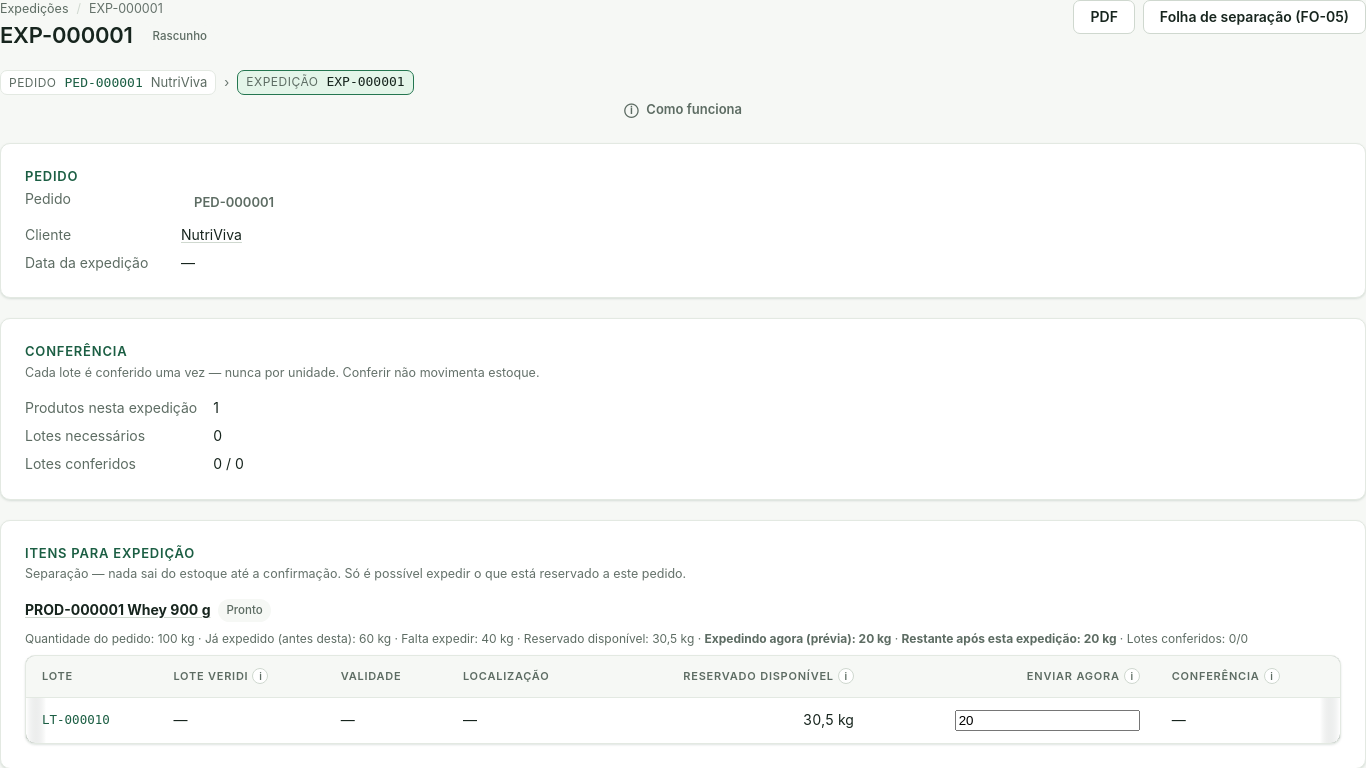
it: Expedição — Salvar separação responde › editar de novo — quantidade ou notas — tira a frase antiga
expect the heading "EXP-000001" is shown: met, box [0,22,133,50]
Replace the text in the field named "Quantidade do lote LT-000010" with "22" at (1047, 720), box [955,710,1140,731]
(page scrolled)
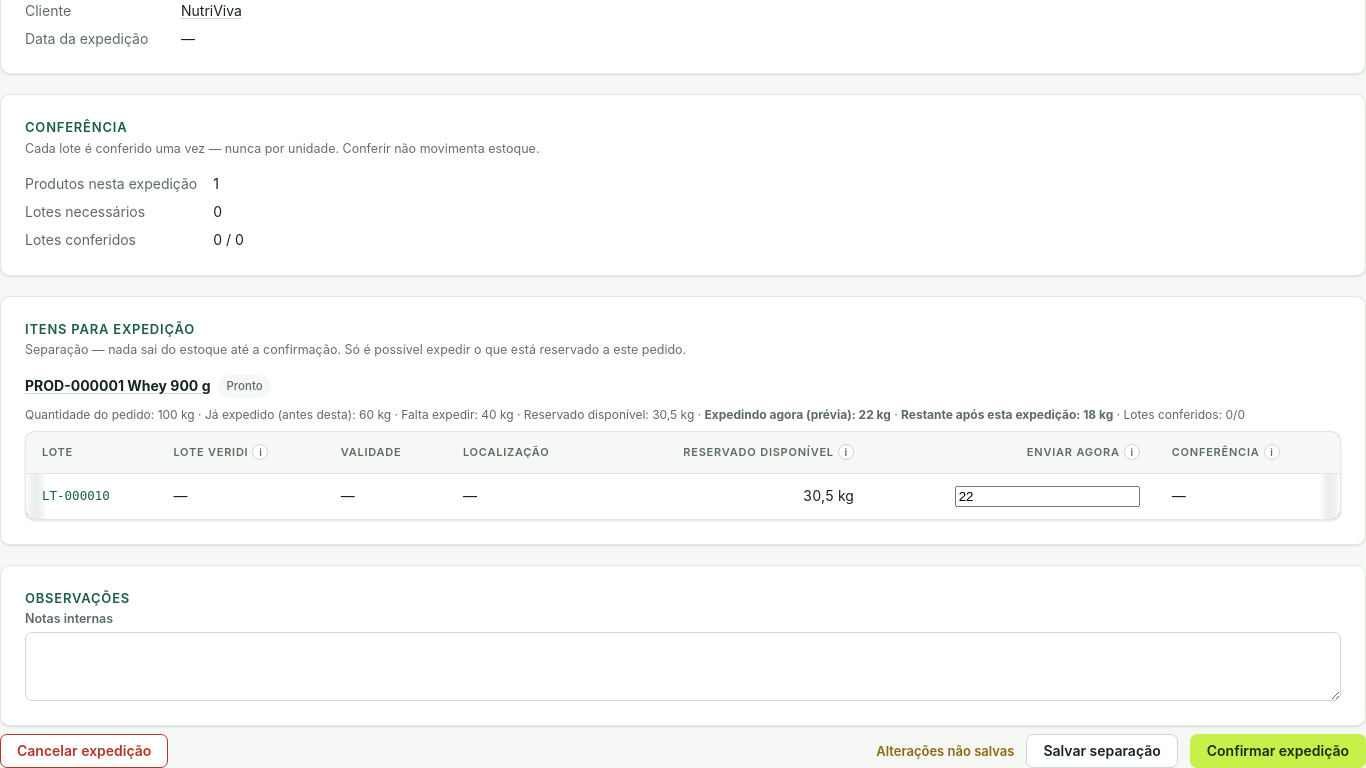
Click the button "Salvar separação" at (1102, 751), box [1026,734,1178,767]
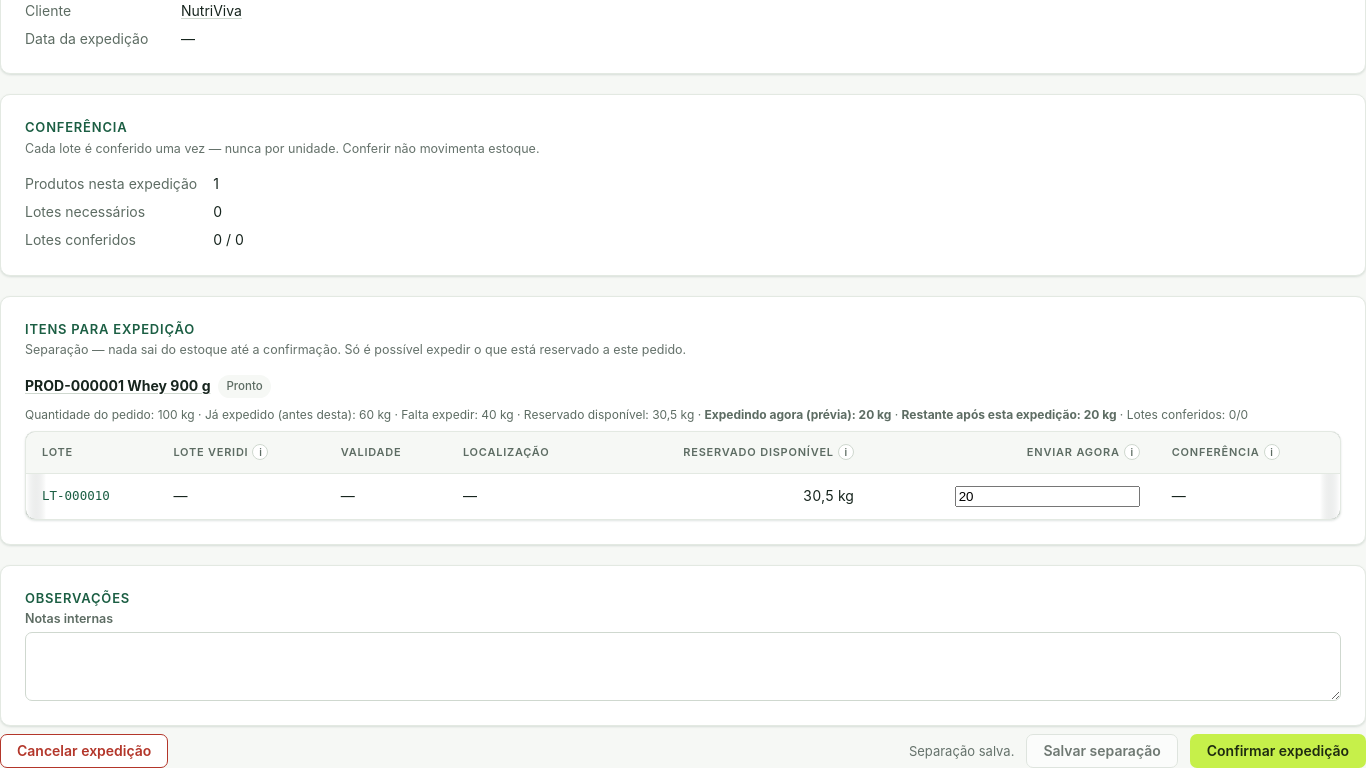
expect the text "Separação salva." is shown: met, box [909,742,1014,761]
Replace the text in the field named "Quantidade do lote LT-000010" with "18" at (1047, 496), box [955,486,1140,507]
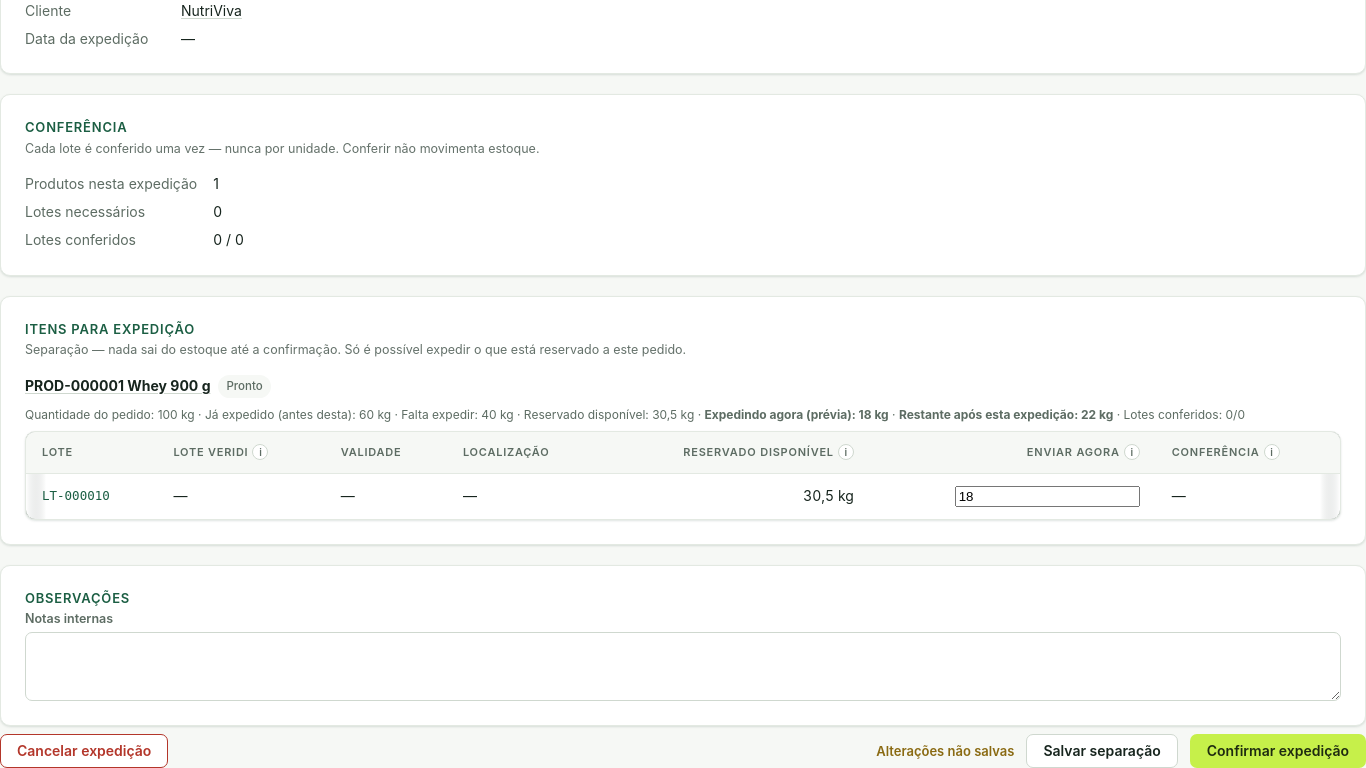
expect the text "Separação salva." is gone: met
Click the button "Salvar separação" at (1102, 751), box [1026,734,1178,767]
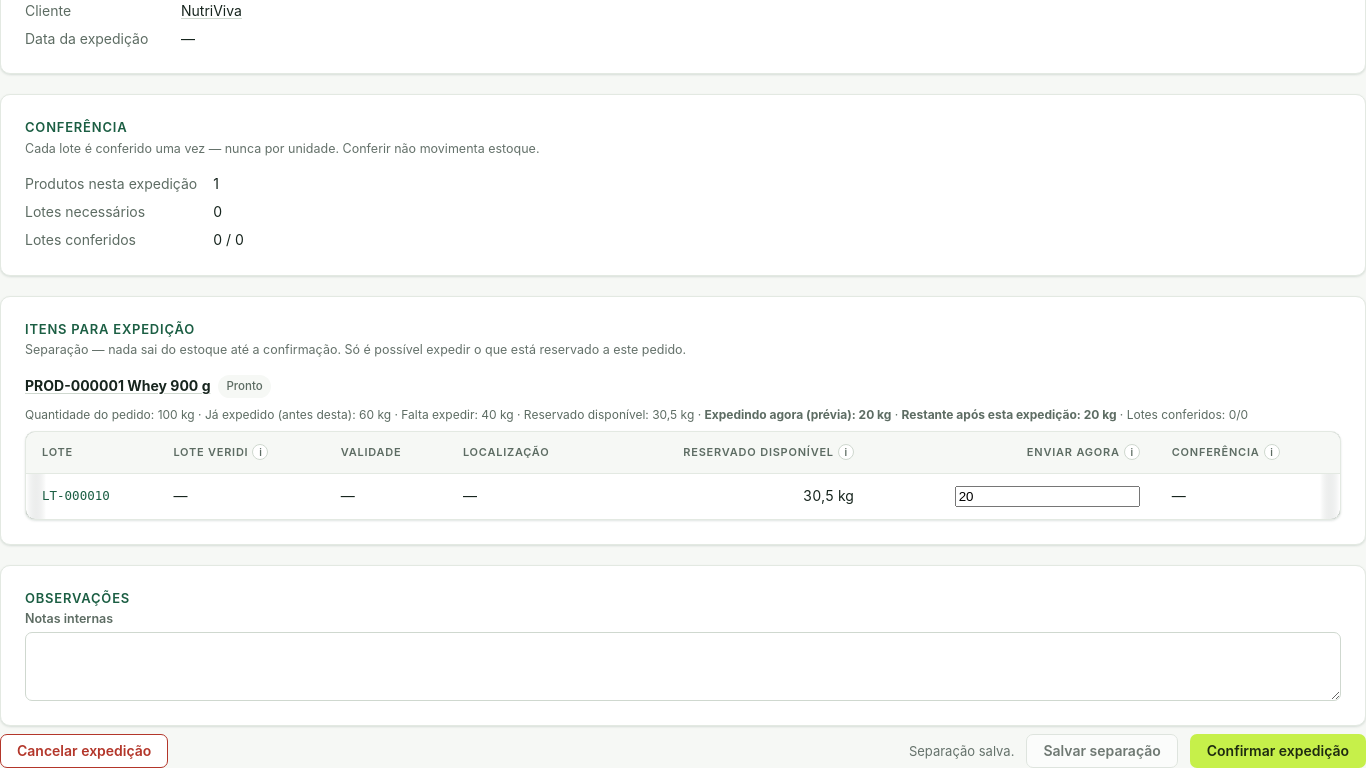
expect the text "Separação salva." is shown: met, box [909,742,1014,761]
Type "Doca 2" into the text box labelled "Notas internas" at (683, 667), box [25,632,1341,701]
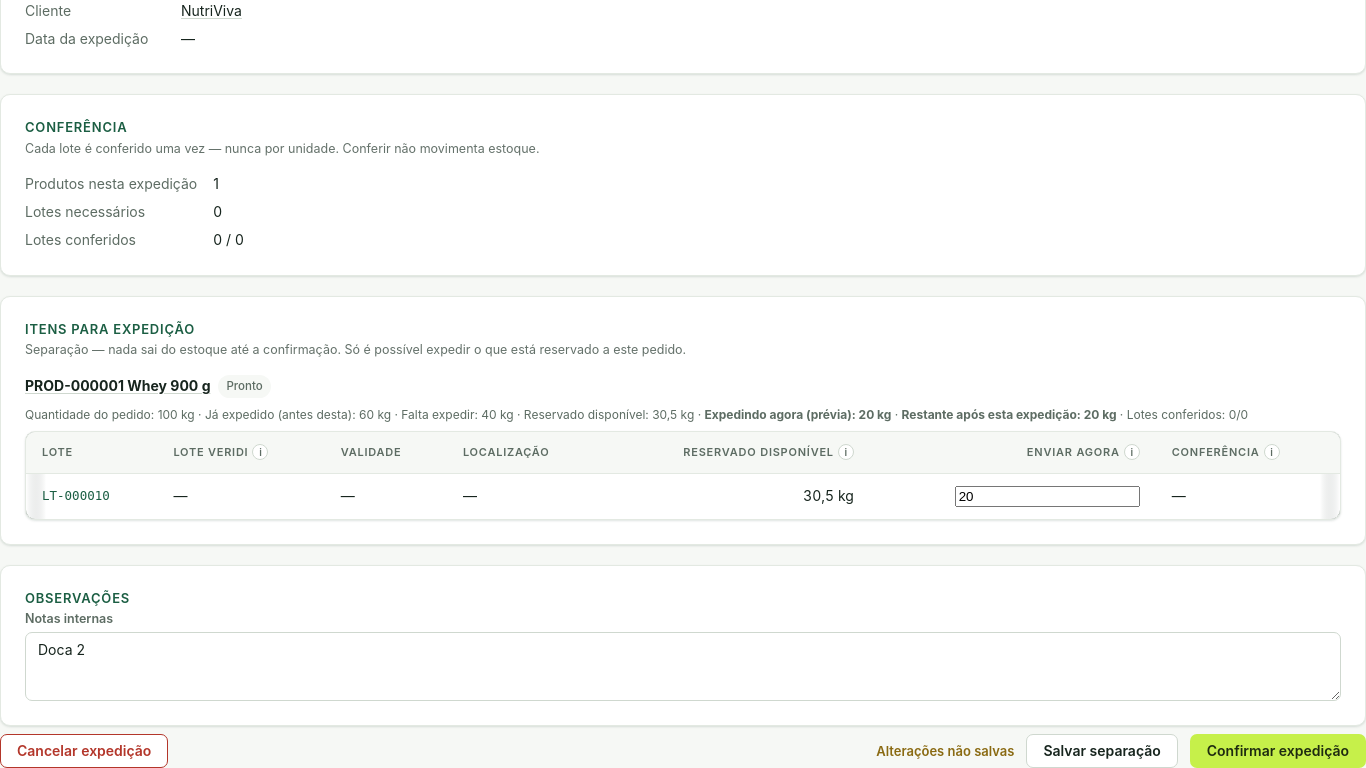
expect the number of messages is 1: met, box [876,742,1014,761]
expect the text "Separação salva." is gone: met
expect the message reads "Alterações não salvas": met, box [876,743,1014,759]
